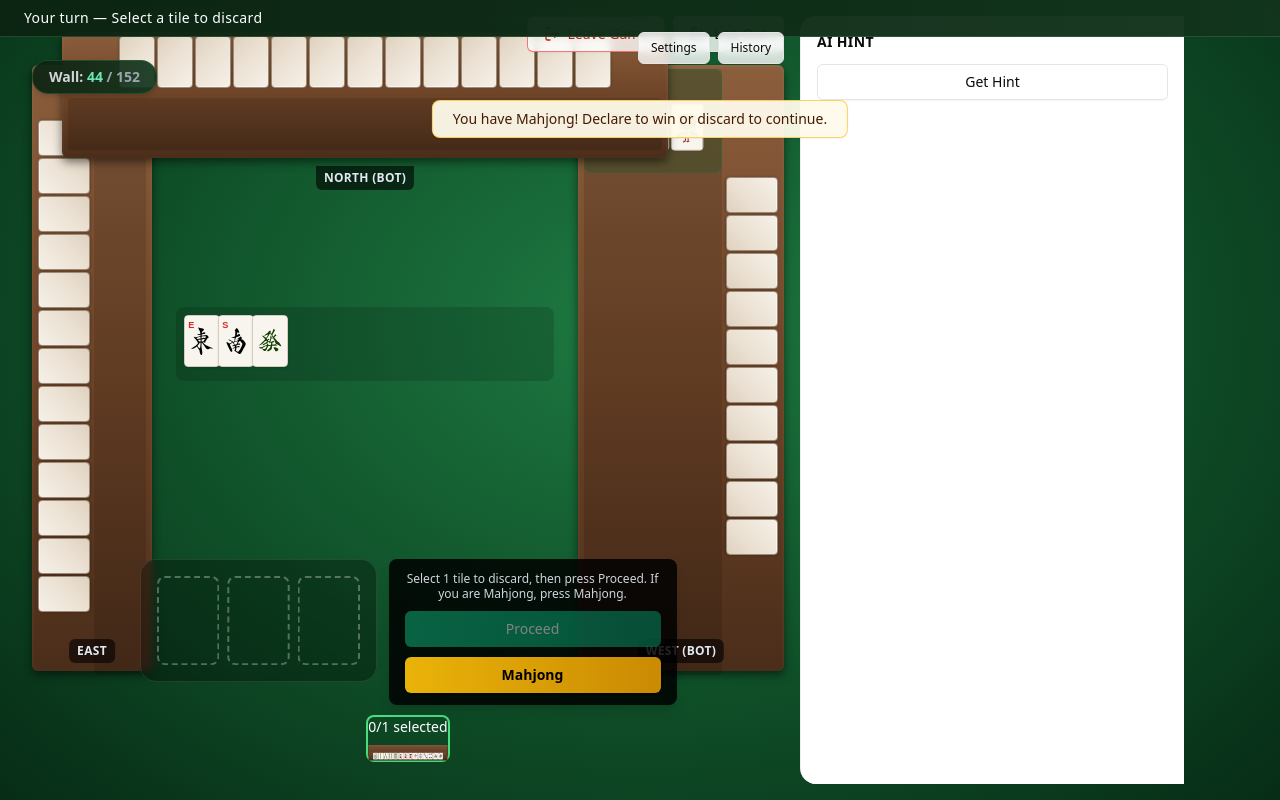
US-025: Jump to Historical Move (Integration) › blocks jump in active multiplayer games
Step 1. Click the button with test id "history-button" → click(751, 48), box [718,32,784,64]
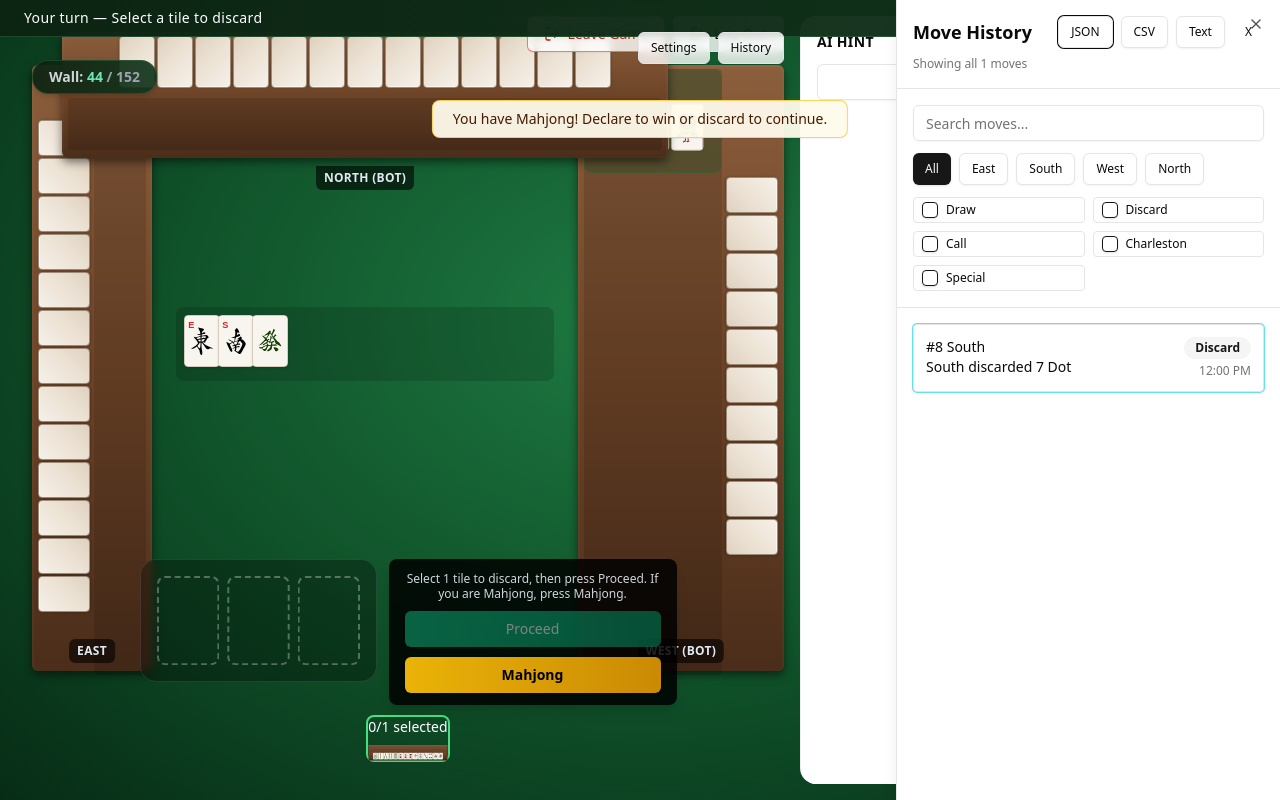
Step 2. Click the button with test id "history-entry-8" → click(966, 346), box [913,324,1264,392]
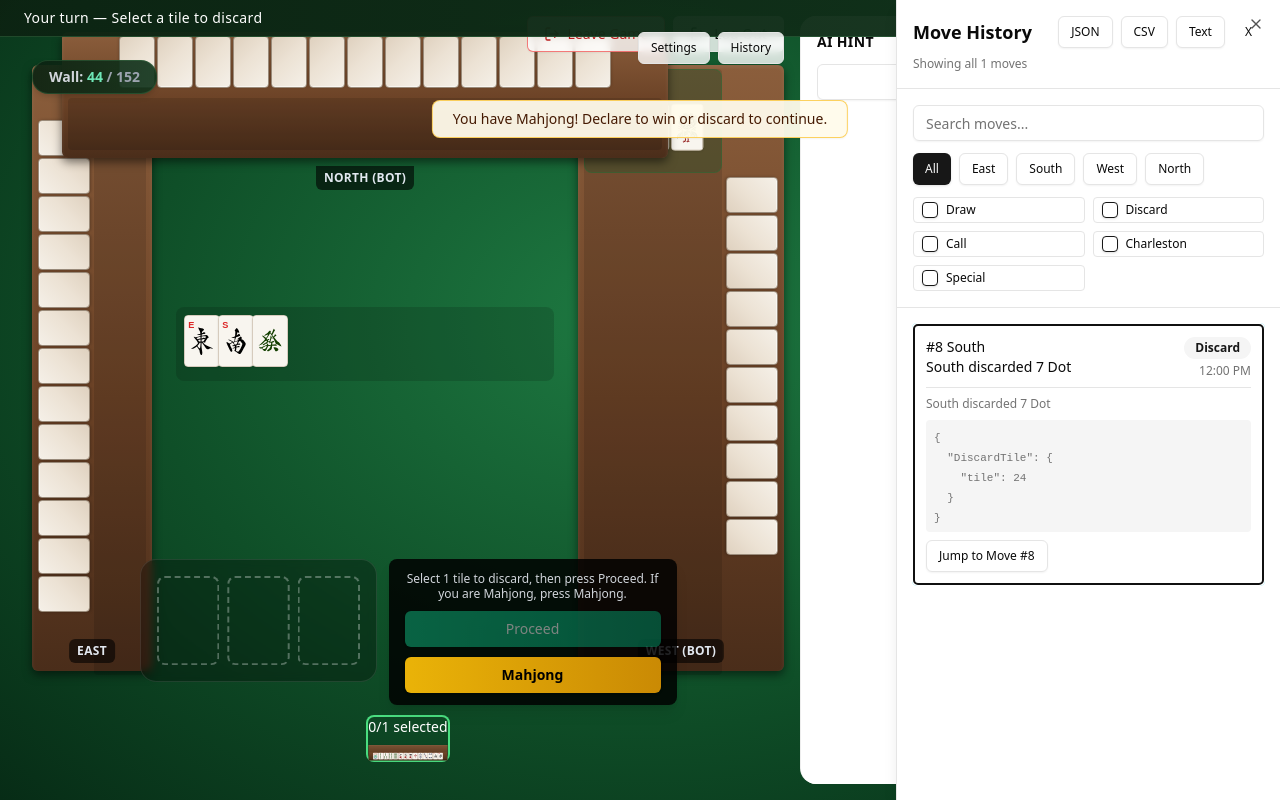
Step 3. Click the button "Jump to Move #8" → click(987, 556), box [926,540,1048,572]
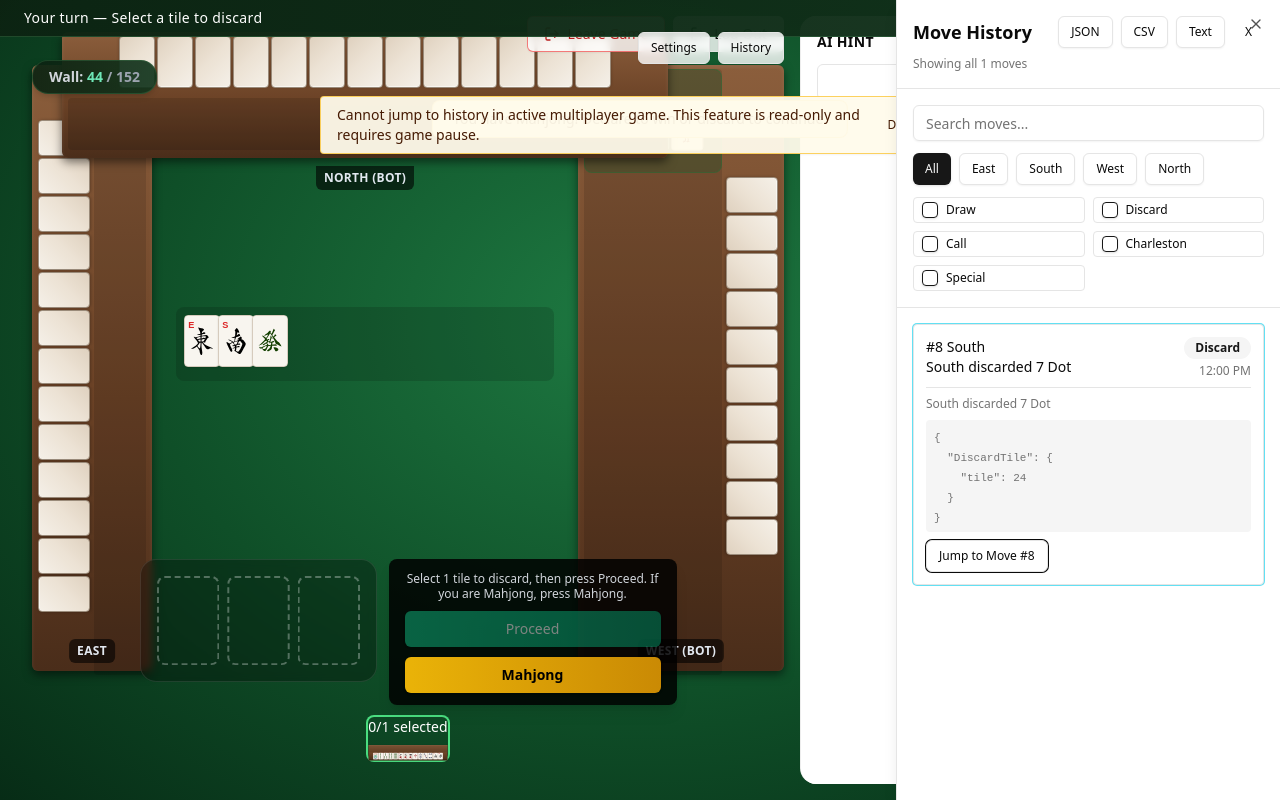
Check: the message with test id "history-warning" shows "Cannot jump to history in active multiplayer game", box [337,105,860,144]
